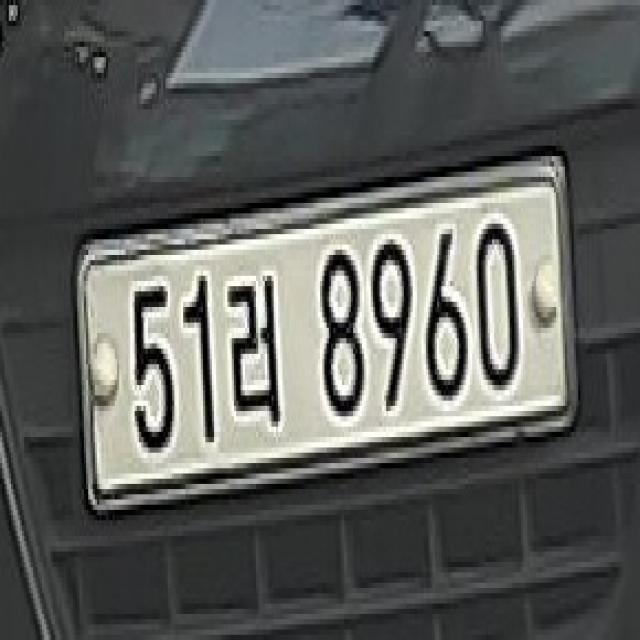0: (474, 207, 526, 399)
1: (180, 262, 220, 458)
5: (125, 271, 178, 478)
6: (422, 214, 470, 419)
8: (316, 232, 366, 432)
9: (370, 226, 416, 427)
leo: (225, 258, 284, 438)
license_plate: (62, 100, 591, 558)
